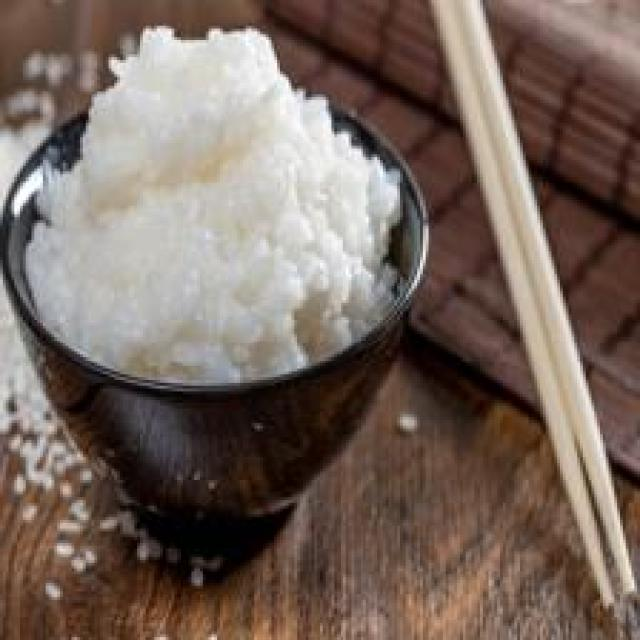Wet Waste: (32, 19, 402, 362)
